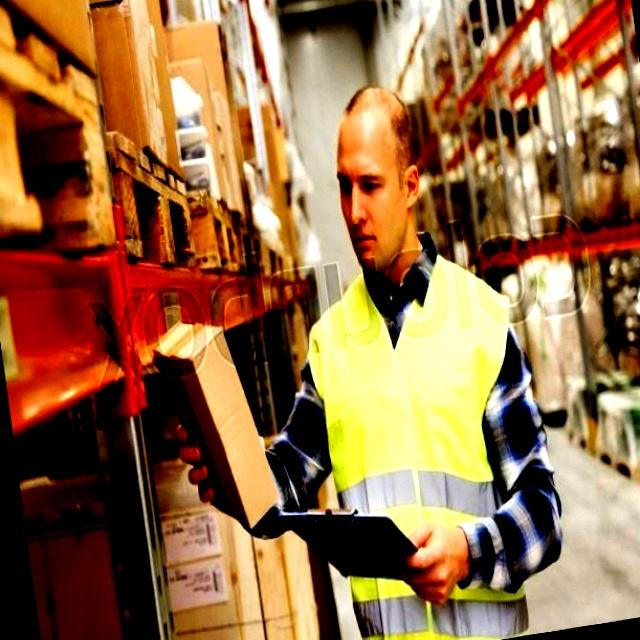Colete: (309, 257, 508, 534)
